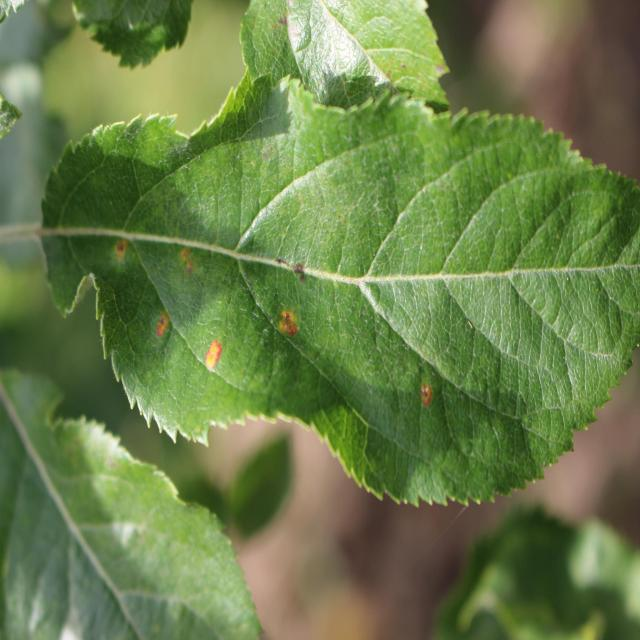Rust: (264, 300, 313, 343), (168, 233, 203, 288), (147, 299, 176, 364), (202, 329, 226, 394), (108, 218, 133, 278), (408, 380, 446, 416)
